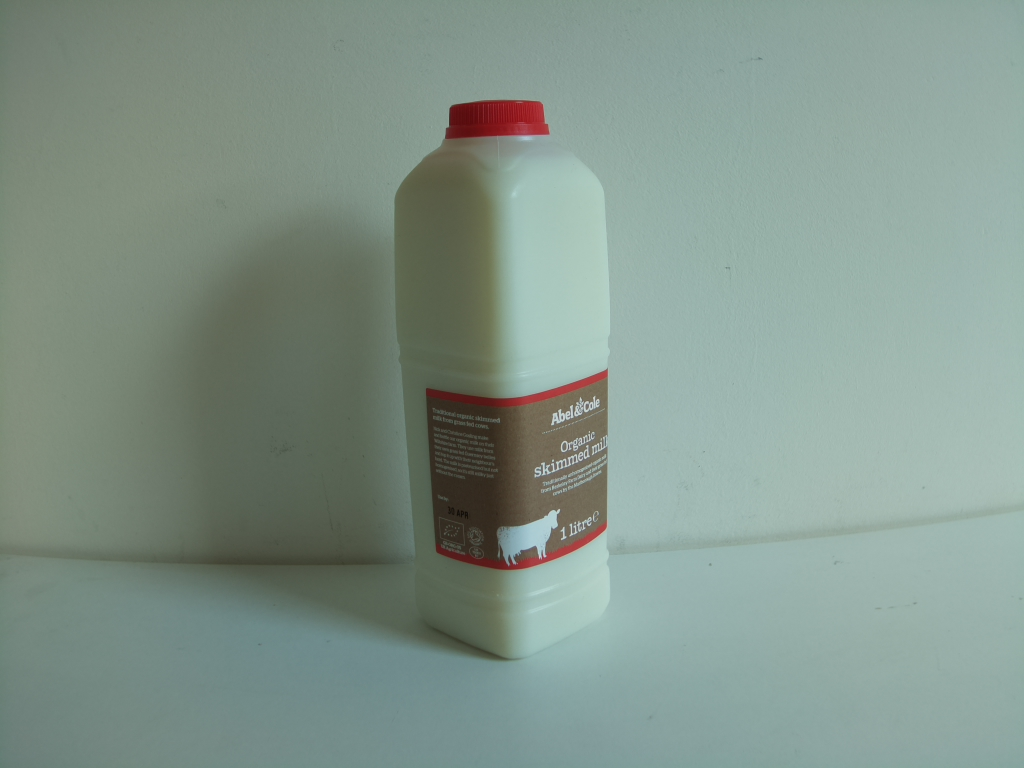milk: (384, 89, 624, 654)
